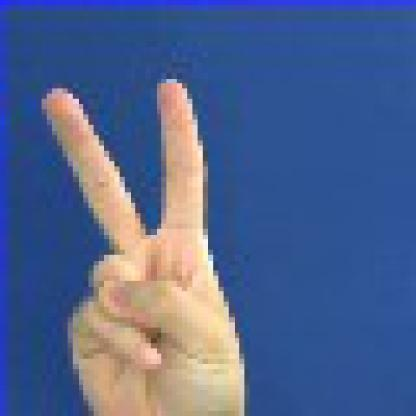two: (21, 67, 270, 410)
